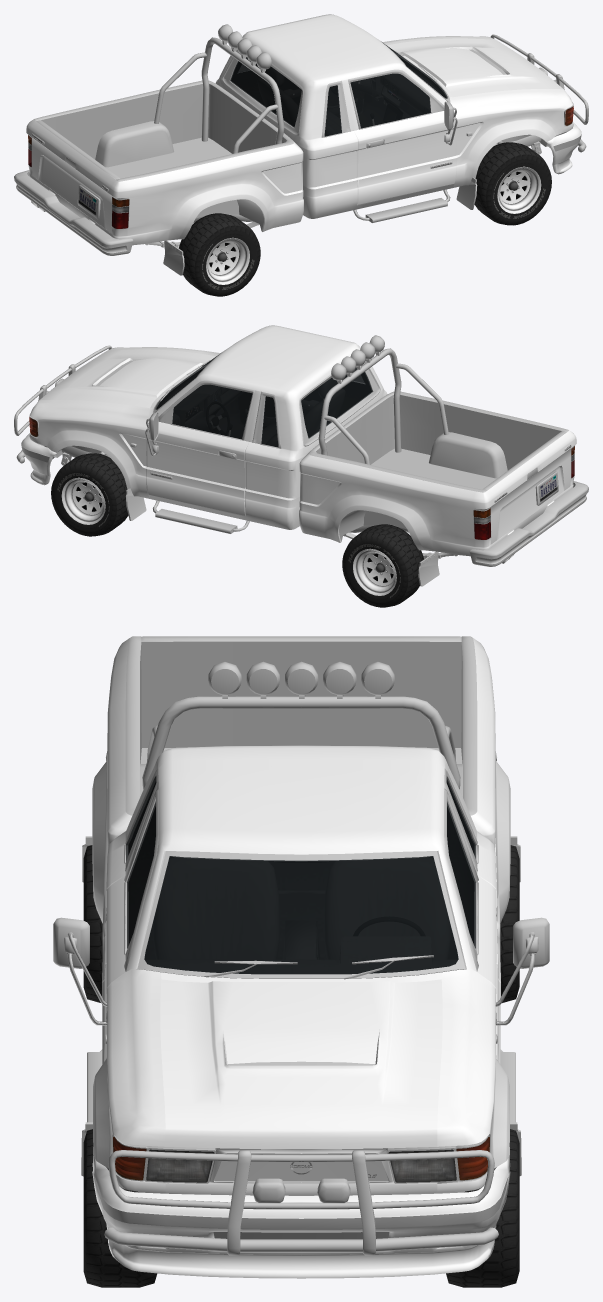
The model's file is krmlgtbdy.fbx.
The picture shows the model from 3 angles, top to bottom: view 1: azimuth 30°, elevation 25°; view 2: azimuth 150°, elevation 25°; view 3: azimuth 270°, elevation 25°; orthographic projection. The views are drawn at different scales.
Parts seen in each view (by area): view 1: krmlgtbdy85_Body, krmlgtbdy85_Bottom, krmlgtbdy85_Hood, krmlgtbdy85_Interior, krmlgtbdy85_WheelStock_RR, krmlgtbdy85_WheelStock_FR, krmlgtbdy85_Trunkdoor, krmlgtbdy85_Extra_A, krmlgtbdy85_Glass_Passanger, krmlgtbdy85_Bumper_Rear, krmlgtbdy85_Lifted_Trim, krmlgtbdy85_Glass_Rear (+6 smaller); view 2: krmlgtbdy85_Body, krmlgtbdy85_Bottom, krmlgtbdy85_Hood, krmlgtbdy85_Interior, krmlgtbdy85_WheelStock_RL, krmlgtbdy85_WheelStock_FL, krmlgtbdy85_Trunkdoor, krmlgtbdy85_Extra_A, krmlgtbdy85_Glass_Driver, krmlgtbdy85_Bumper_Rear, krmlgtbdy85_Lifted_Trim, krmlgtbdy85_Glass_Rear (+6 smaller); view 3: krmlgtbdy85_Body, krmlgtbdy85_Hood, krmlgtbdy85_Interior, krmlgtbdy85_Windshield, krmlgtbdy85_Trunk_door_inner, krmlgtbdy85_Bottom, krmlgtbdy85_Bumper_Front, krmlgtbdy85_Bullbar, krmlgtbdy85_Extra_A, krmlgtbdy85_Lifted_Trim, krmlgtbdy85_Bumper_front_inner, krmlgtbdy85_Headlights_Glass (+8 smaller).
Part boxes in pixels (bbox=[...]): krmlgtbdy85_Body: bbox=[26, 14, 573, 245]; krmlgtbdy85_Bottom: bbox=[28, 41, 573, 240]; krmlgtbdy85_Hood: bbox=[386, 38, 563, 97]; krmlgtbdy85_Interior: bbox=[231, 57, 446, 135]; krmlgtbdy85_WheelStock_RR: bbox=[179, 213, 260, 296]; krmlgtbdy85_WheelStock_FR: bbox=[474, 142, 551, 225]; krmlgtbdy85_Trunkdoor: bbox=[30, 121, 115, 233]; krmlgtbdy85_Extra_A: bbox=[154, 24, 284, 153]; krmlgtbdy85_Glass_Passanger: bbox=[350, 73, 430, 128]; krmlgtbdy85_Bumper_Rear: bbox=[14, 170, 133, 255]; krmlgtbdy85_Lifted_Trim: bbox=[163, 101, 477, 275]; krmlgtbdy85_Glass_Rear: bbox=[230, 57, 301, 127]; krmlgtbdy85_Body: bbox=[29, 325, 576, 556]; krmlgtbdy85_Bottom: bbox=[29, 352, 574, 563]; krmlgtbdy85_Hood: bbox=[39, 349, 216, 408]; krmlgtbdy85_Interior: bbox=[156, 368, 371, 446]; krmlgtbdy85_WheelStock_RL: bbox=[342, 524, 423, 607]; krmlgtbdy85_WheelStock_FL: bbox=[51, 453, 128, 536]; krmlgtbdy85_Trunkdoor: bbox=[487, 432, 572, 544]; krmlgtbdy85_Extra_A: bbox=[318, 335, 448, 464]; krmlgtbdy85_Glass_Driver: bbox=[172, 384, 252, 439]; krmlgtbdy85_Bumper_Rear: bbox=[469, 481, 588, 566]; krmlgtbdy85_Lifted_Trim: bbox=[126, 412, 439, 586]; krmlgtbdy85_Glass_Rear: bbox=[301, 368, 372, 438]; krmlgtbdy85_Body: bbox=[92, 638, 510, 1194]; krmlgtbdy85_Hood: bbox=[160, 979, 442, 1149]; krmlgtbdy85_Interior: bbox=[128, 782, 474, 973]; krmlgtbdy85_Windshield: bbox=[144, 856, 458, 974]; krmlgtbdy85_Trunk_door_inner: bbox=[141, 636, 461, 747]; krmlgtbdy85_Bottom: bbox=[104, 636, 498, 1195]; krmlgtbdy85_Bumper_Front: bbox=[92, 1156, 510, 1278]; krmlgtbdy85_Bullbar: bbox=[104, 1150, 498, 1255]; krmlgtbdy85_Extra_A: bbox=[142, 661, 460, 789]; krmlgtbdy85_Lifted_Trim: bbox=[53, 836, 549, 1176]; krmlgtbdy85_Bumper_front_inner: bbox=[94, 1177, 508, 1239]; krmlgtbdy85_Headlights_Glass: bbox=[113, 1137, 489, 1182].
Size of the model in its own units: 4.93 by 1.92 by 2.14.
